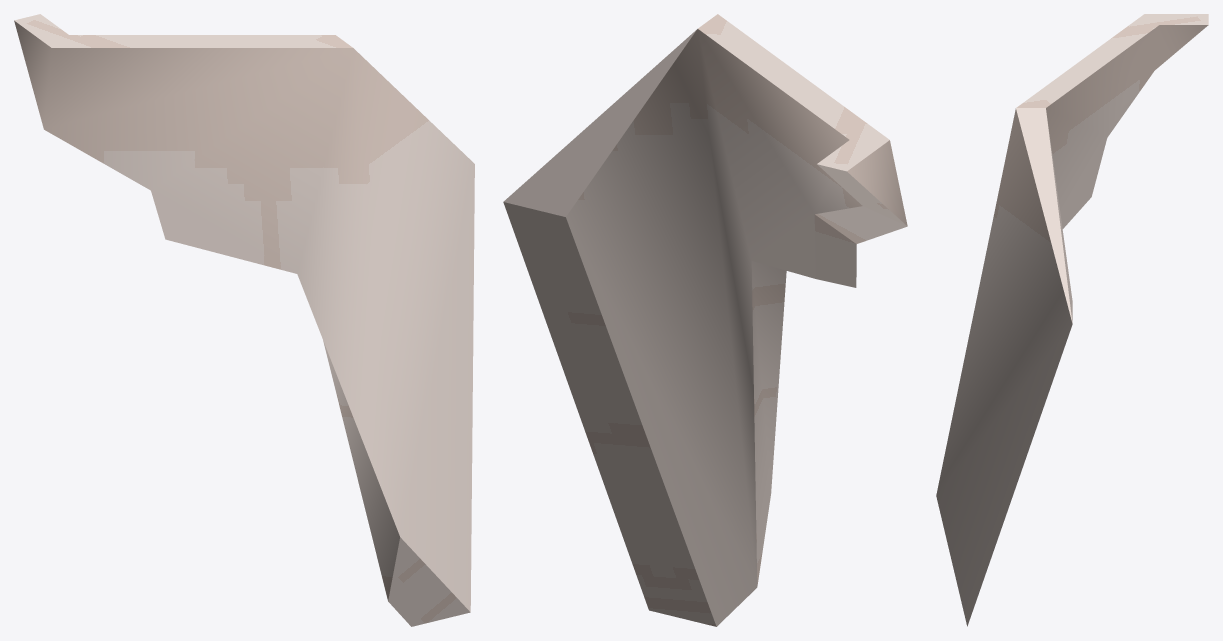
The model's file is wine_glass_gib_01.glb.
3 views of the same model, side by side, from view 1: azimuth 30°, elevation 25°; view 2: azimuth 150°, elevation 25°; view 3: azimuth 270°, elevation 25° (orthographic). The views are drawn at different scales.
Parts seen in each view (by area): view 1: gib_01; view 2: gib_01; view 3: gib_01.
Boxes of the visible parts, <box> form: gib_01: <box>14,14,474,626</box>; gib_01: <box>503,14,907,626</box>; gib_01: <box>936,14,1208,626</box>.
Bounding box in the file's own units: 0.1953 × 0.2687 × 0.1377.
Materials: 1 (1 with a texture image).
